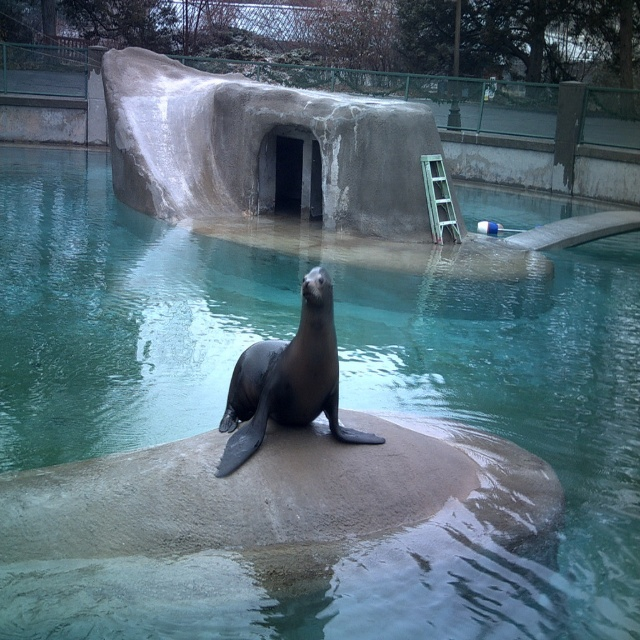Sea lion: (215, 265, 388, 479)
